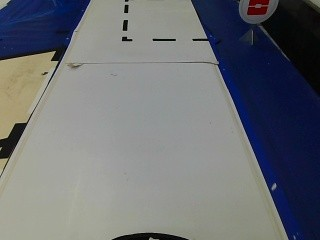company: (238, 0, 278, 22)
